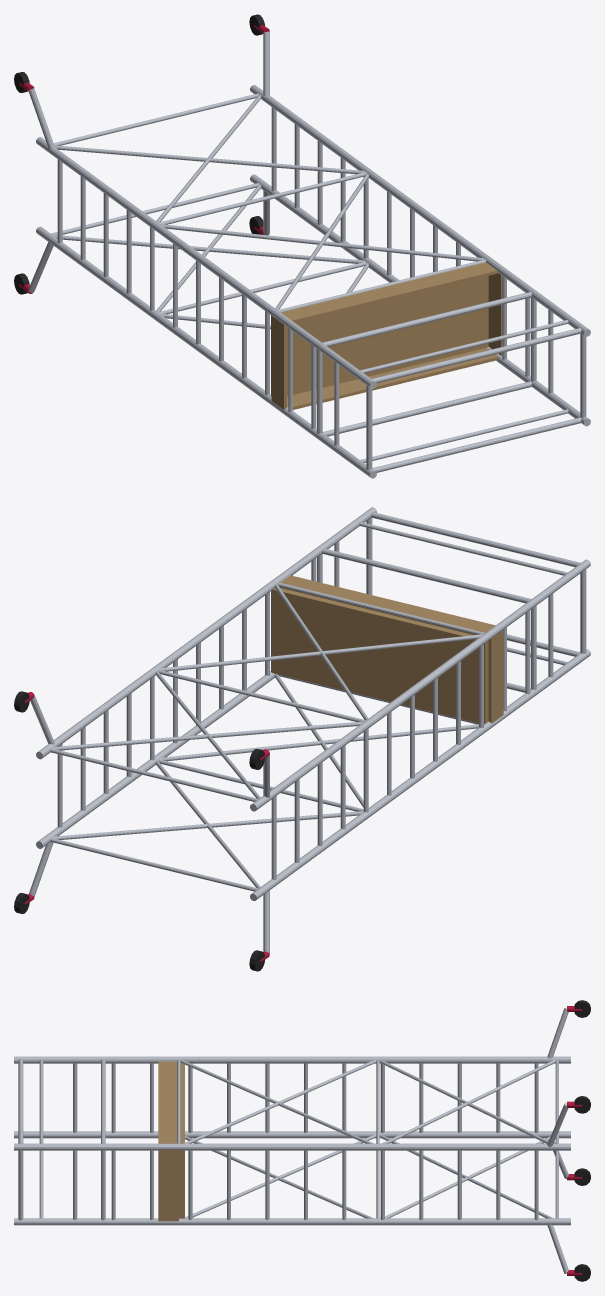
File: krause_corda_4200.obj
3 renders of one model, top to bottom at view 1: azimuth 30°, elevation 25°; view 2: azimuth 150°, elevation 25°; view 3: azimuth 270°, elevation 25°, orthographic. The views are drawn at different scales.
Parts seen in each view (by area): view 1: alu, wood, dark; view 2: alu, wood, dark; view 3: alu, wood, dark.
Part boxes in pixels (x1,y1,x2,y2): alu: [28, 31, 590, 478]; wood: [271, 262, 502, 409]; dark: [14, 14, 264, 294]; alu: [29, 507, 590, 953]; wood: [271, 575, 503, 724]; dark: [14, 691, 264, 971]; alu: [14, 1008, 570, 1273]; wood: [158, 1061, 184, 1221]; dark: [574, 1000, 590, 1281].
Bounding box in the file's own units: 1.7 × 1.48 × 4.2.
